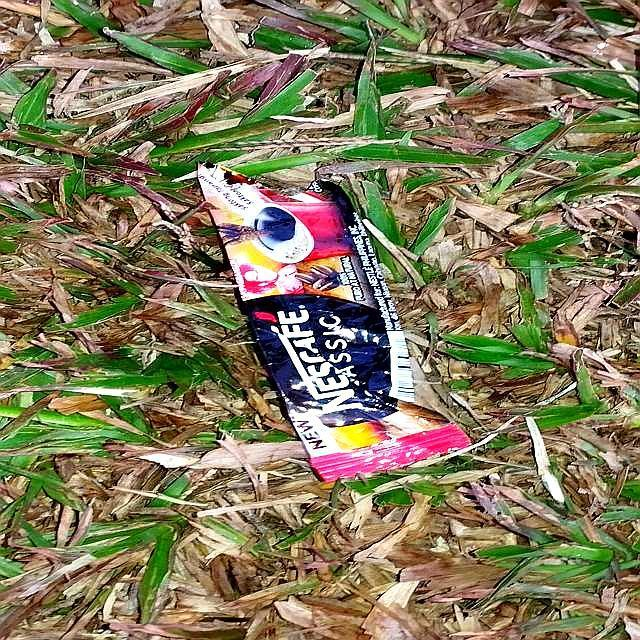Non-biodegradable: (195, 160, 473, 485)
